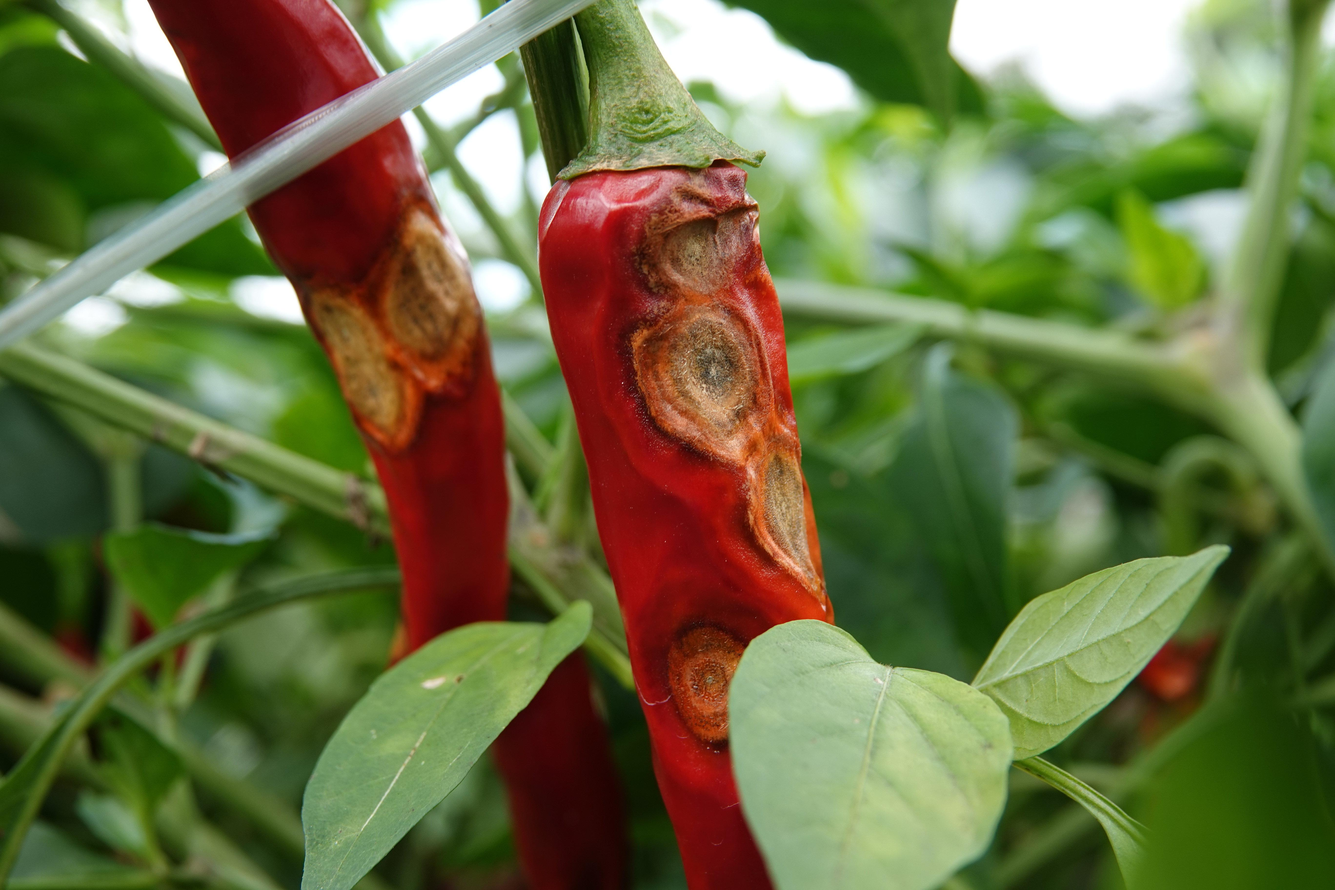Busuk Buah Antraknosa: (142, 1, 511, 886), (518, 2, 838, 886)
